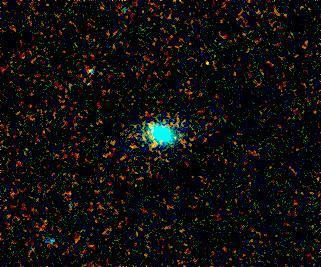star: (197, 47, 227, 77)
